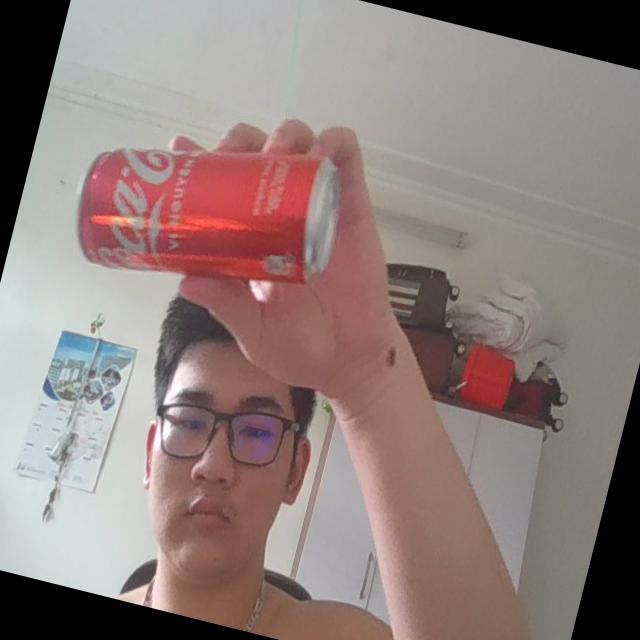Coca Cola: (60, 99, 352, 329)
